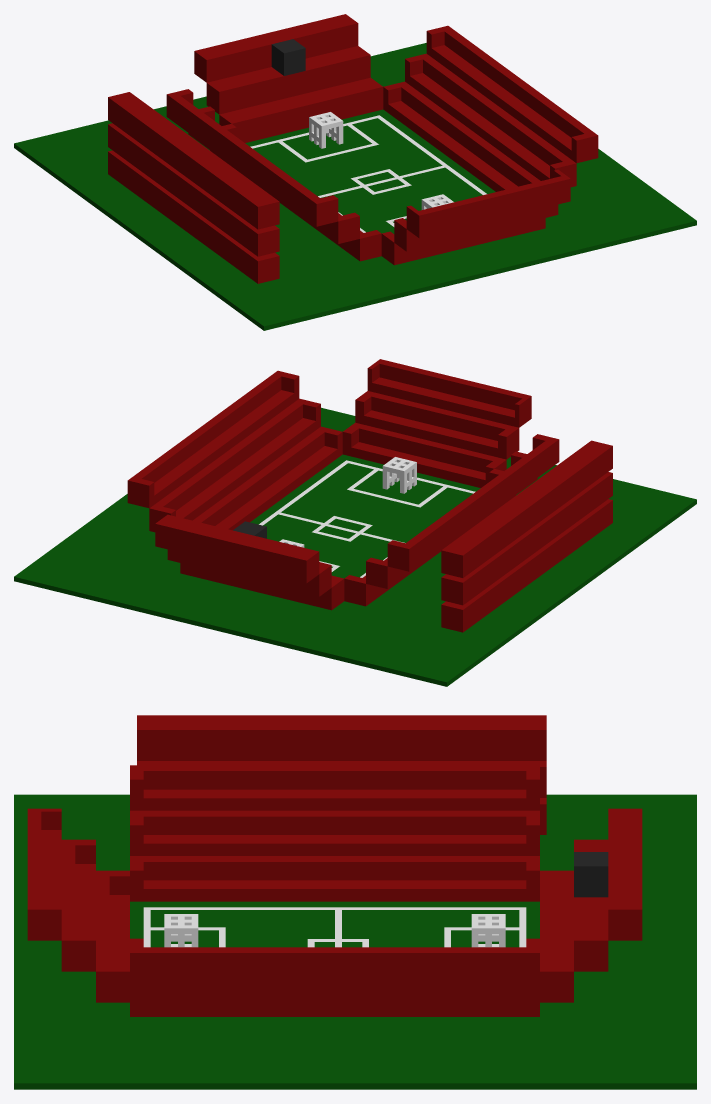
File: stadium.obj
3 views of the same model, one above another, from view 1: azimuth 30°, elevation 25°; view 2: azimuth 150°, elevation 25°; view 3: azimuth 270°, elevation 25° (orthographic). The views are drawn at different scales.
Visible parts, largest first — view 1: stadium; view 2: stadium; view 3: stadium.
Part boxes in pixels (x1,y1,x2,y2): stadium: [14, 14, 696, 330]; stadium: [14, 359, 696, 686]; stadium: [14, 715, 696, 1089].
Bounding box in the file's own units: 100 × 18 × 100.
Materials: 1 (1 with a texture image).
